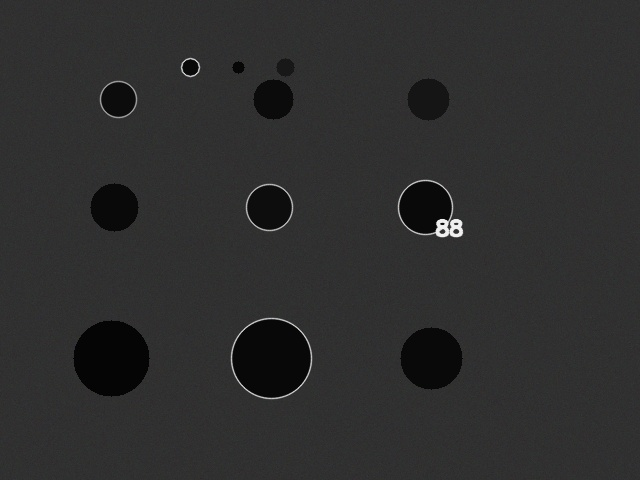hole: (231, 318, 311, 398), (73, 320, 149, 396), (400, 327, 462, 389), (398, 180, 452, 234), (90, 183, 138, 231), (246, 184, 292, 230), (407, 78, 449, 120), (253, 79, 293, 119), (100, 81, 136, 117), (181, 58, 199, 76), (276, 58, 294, 76), (232, 61, 244, 73)
